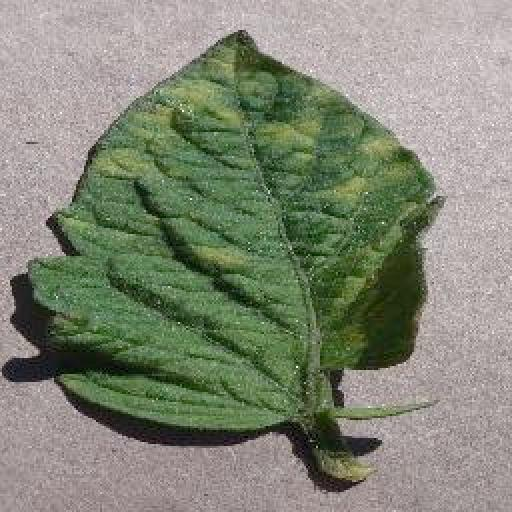disease_tomato: (26, 30, 443, 432)
